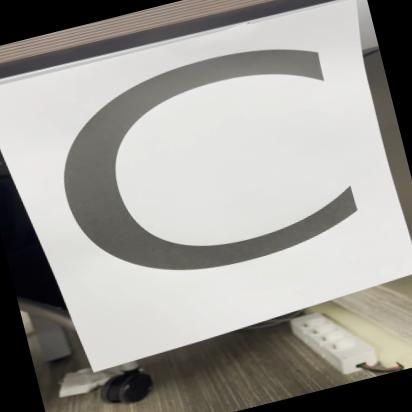seat: (0, 0, 412, 388)
